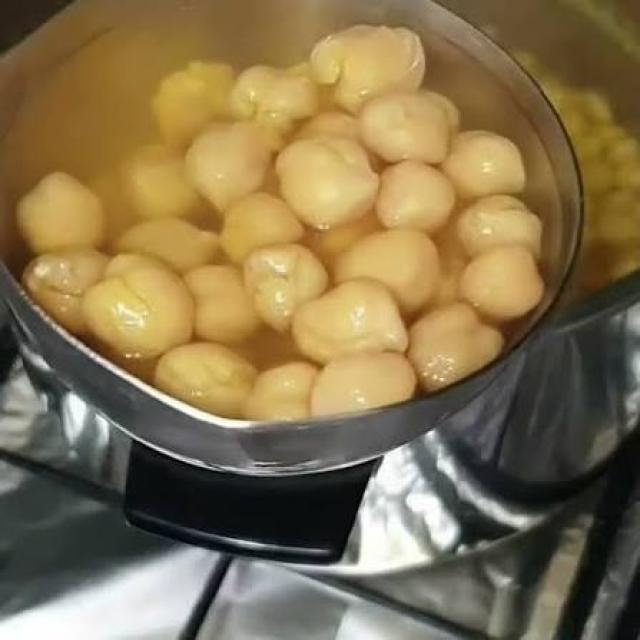Nakhi: (1, 0, 640, 421)
